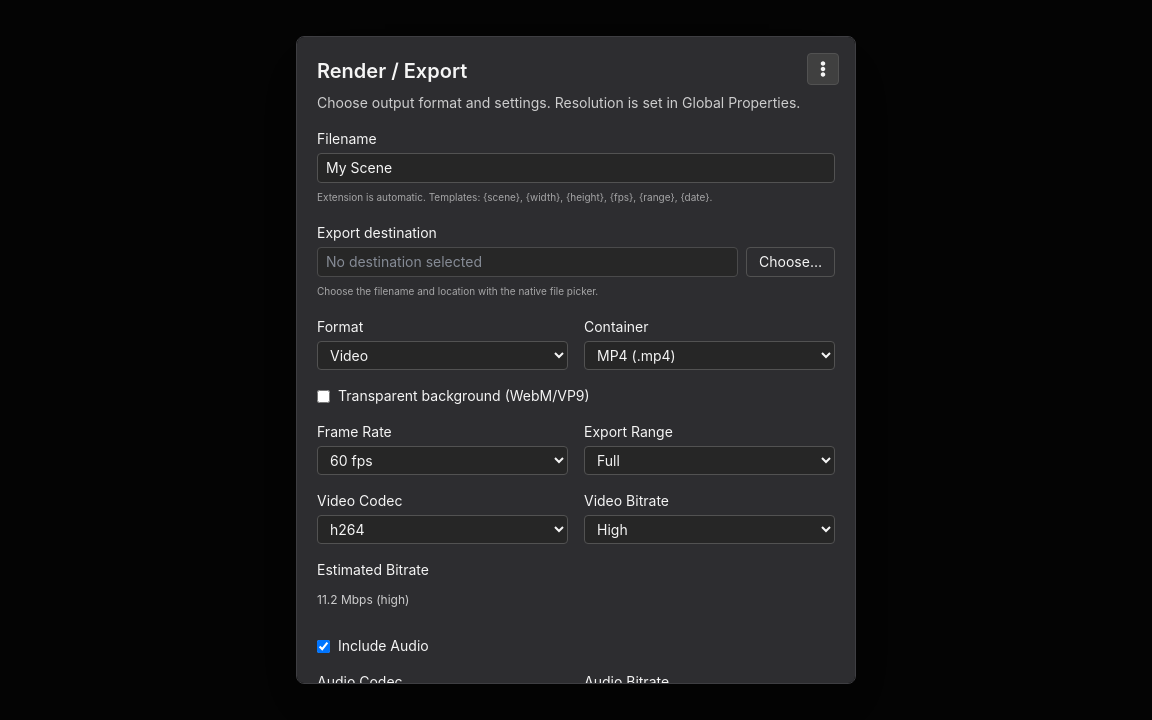
Scenario: RenderModal export options behaviour › keeps only preset selection controls in the export presets menu
Expected: the dropdown labelled "Video Codec" is enabled, [317,515,568,544]
Click the button named "Export presets" at (823, 69), box [807,53,839,85]
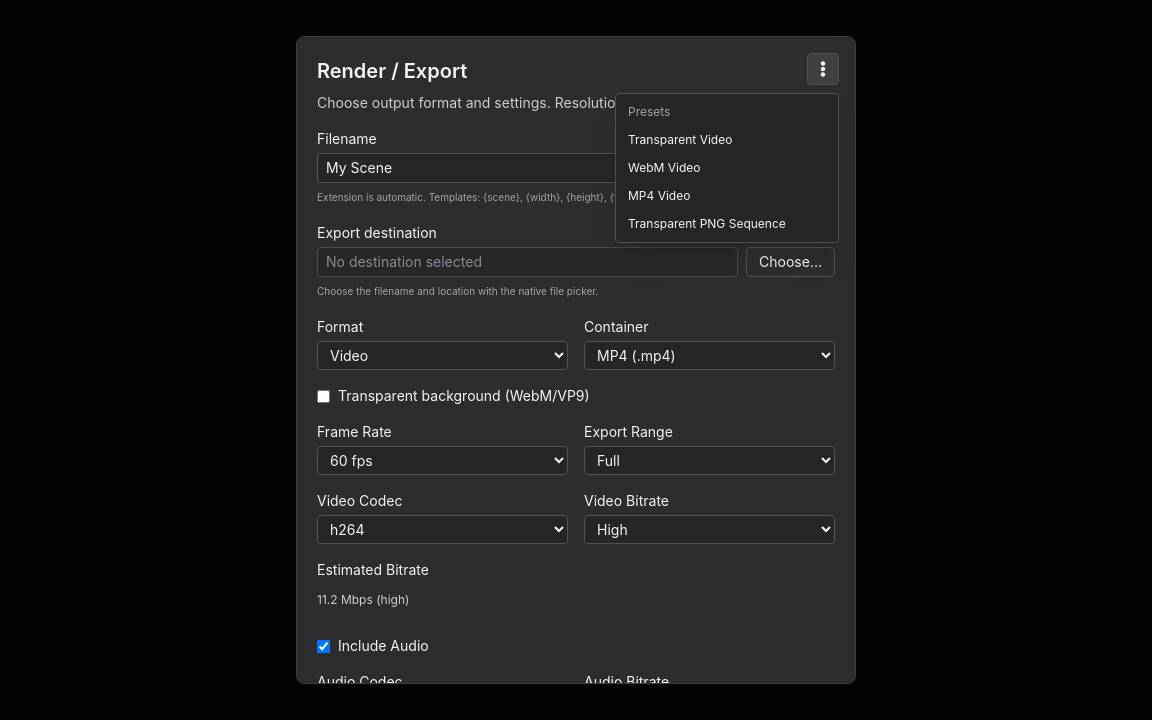
Expected: the menu named "Export presets" is shown, [615,93,839,243]
Expected: the menu item "Transparent PNG Sequence" is shown, [620,210,834,238]
